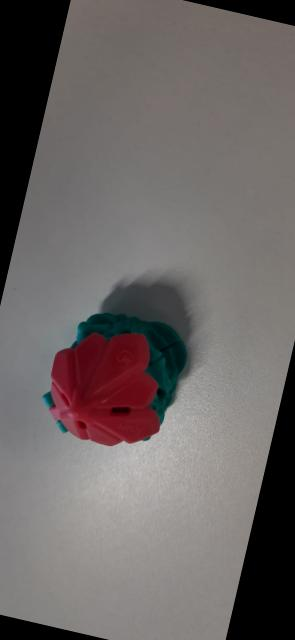House: (33, 292, 202, 470)
